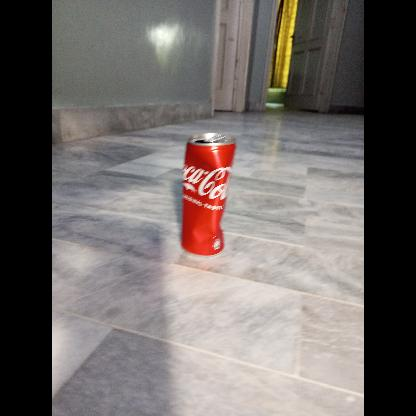Dent_Can: (183, 156, 232, 187), (190, 204, 224, 245)
Lid_Open: (194, 126, 228, 148)
Tin_Can: (178, 122, 238, 256)
